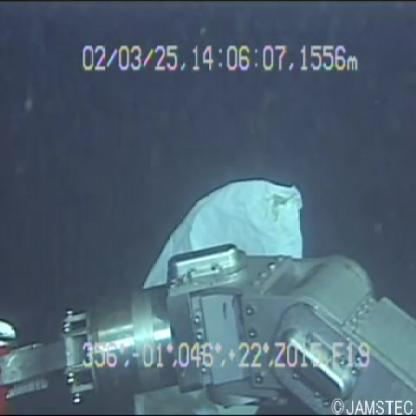Rov: (1, 239, 416, 415)
Rác: (136, 133, 297, 416)
